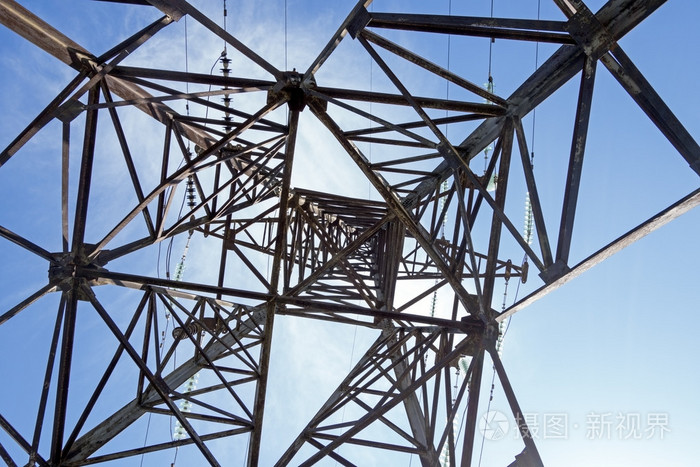insulator: (218, 55, 234, 130), (184, 175, 198, 207)
